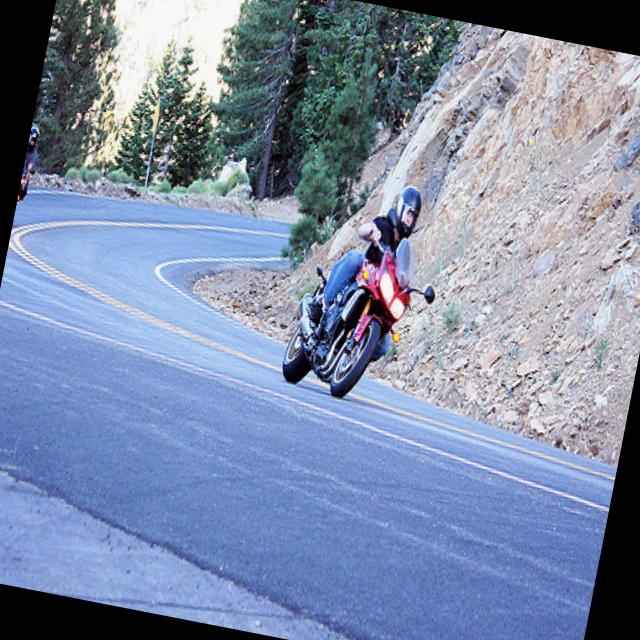Vehicle: (277, 216, 447, 412), (13, 142, 39, 225)
